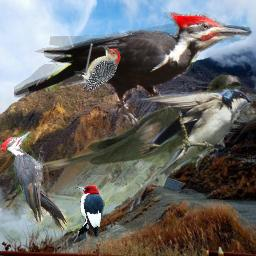Cuckoo: (1, 72, 241, 182)
Swallow: (135, 88, 253, 178)
Woodpecker: (14, 12, 252, 128), (0, 131, 67, 230), (74, 46, 121, 92), (76, 183, 105, 239)
